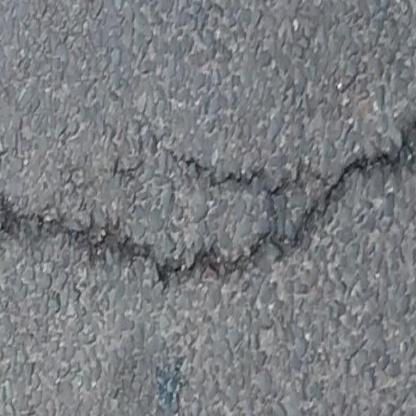Cracks: (0, 178, 293, 312), (80, 122, 350, 252), (307, 74, 416, 323)
